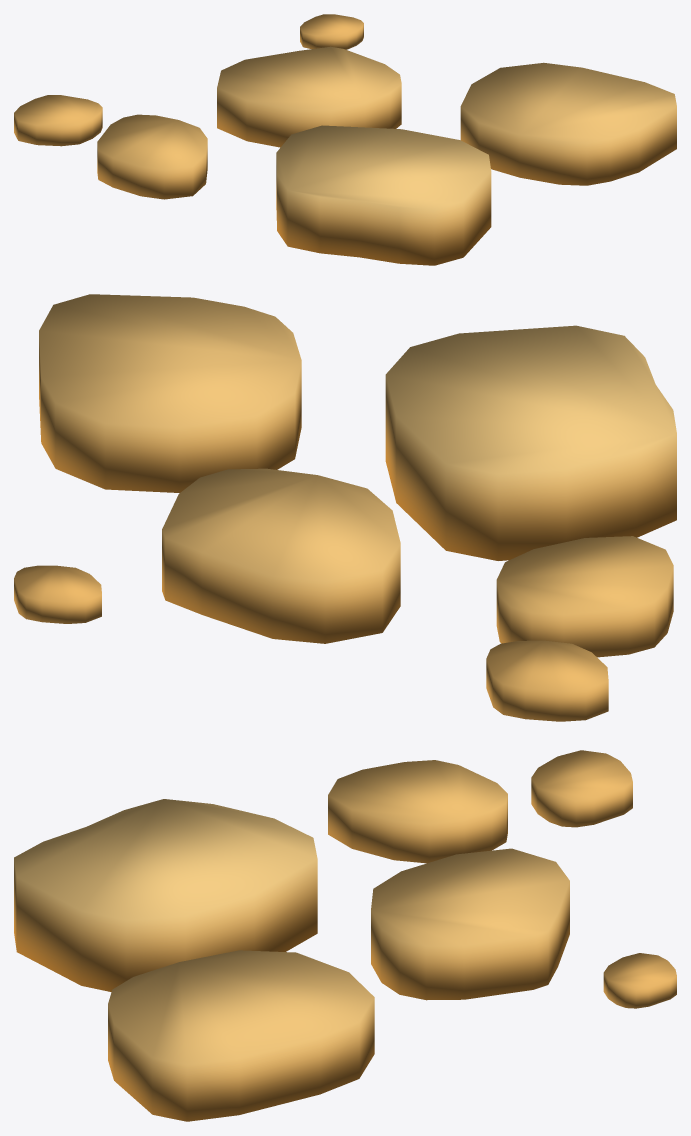
File: obj_PathStraight2Sand.fbx
3 renders of one model, top to bottom at view 1: azimuth 30°, elevation 25°; view 2: azimuth 150°, elevation 25°; view 3: azimuth 270°, elevation 25°, orthographic. The views are drawn at different scales.
Visible parts, largest first — view 1: obj_PathStraight2Sand; view 2: obj_PathStraight2Sand; view 3: obj_PathStraight2Sand.
Part boxes in pixels (x1,y1,x2,y2): obj_PathStraight2Sand: (14,14,676,265); obj_PathStraight2Sand: (14,294,676,721); obj_PathStraight2Sand: (14,750,676,1121).
Bounding box in the file's own units: 805 × 85.29 × 683.
